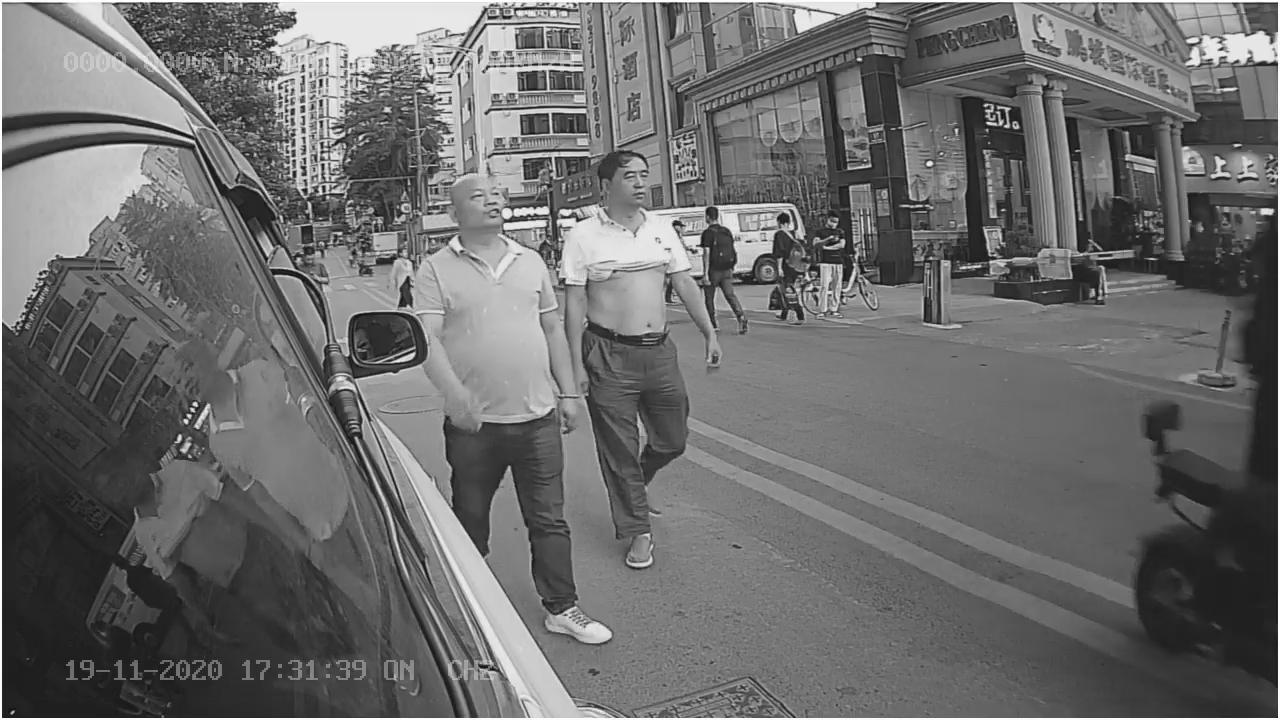person: (564, 158, 723, 510), (421, 165, 577, 446)
